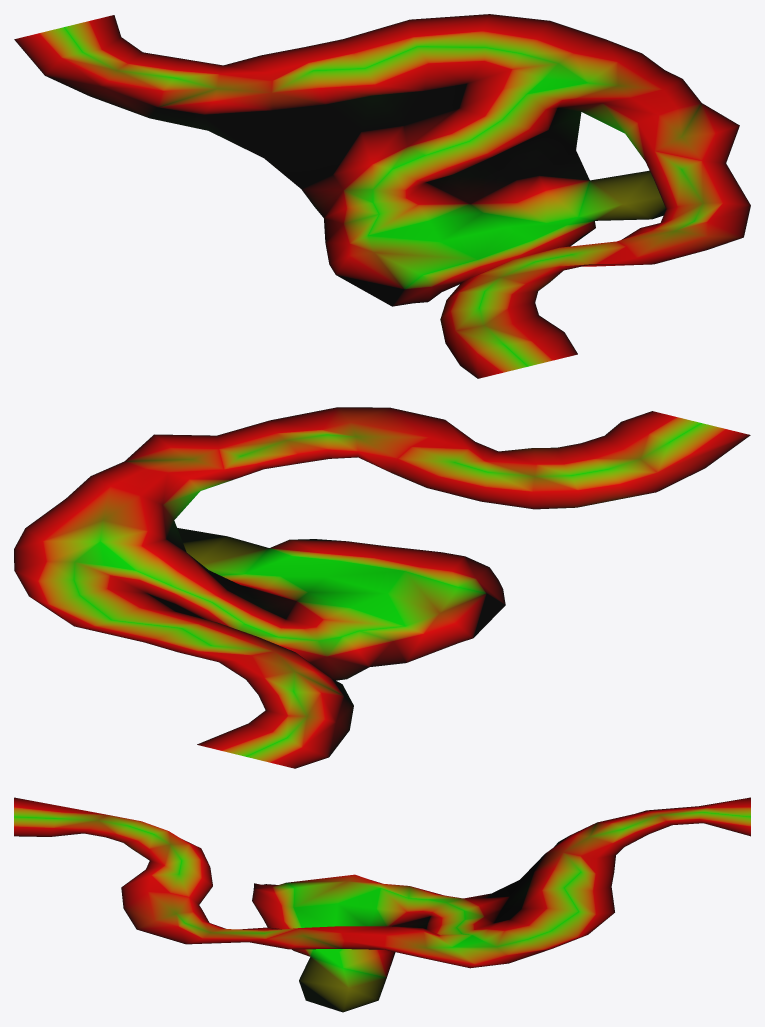
File: Section_WaySafePlace01_Mountains_Terrain.fbx
The picture shows the model from 3 angles, top to bottom: view 1: azimuth 30°, elevation 25°; view 2: azimuth 150°, elevation 25°; view 3: azimuth 270°, elevation 25°; orthographic projection. The views are drawn at different scales.
Visible parts, largest first — view 1: Section_WaySafePlace01_Mountains_Terrain; view 2: Section_WaySafePlace01_Mountains_Terrain; view 3: Section_WaySafePlace01_Mountains_Terrain.
Part boxes in pixels (left/top/right/bottom): Section_WaySafePlace01_Mountains_Terrain: left=14, top=14, right=750, bottom=378; Section_WaySafePlace01_Mountains_Terrain: left=14, top=407, right=750, bottom=768; Section_WaySafePlace01_Mountains_Terrain: left=14, top=797, right=750, bottom=1012.
Size of the model in its own units: 4513 by 896 by 8000.
